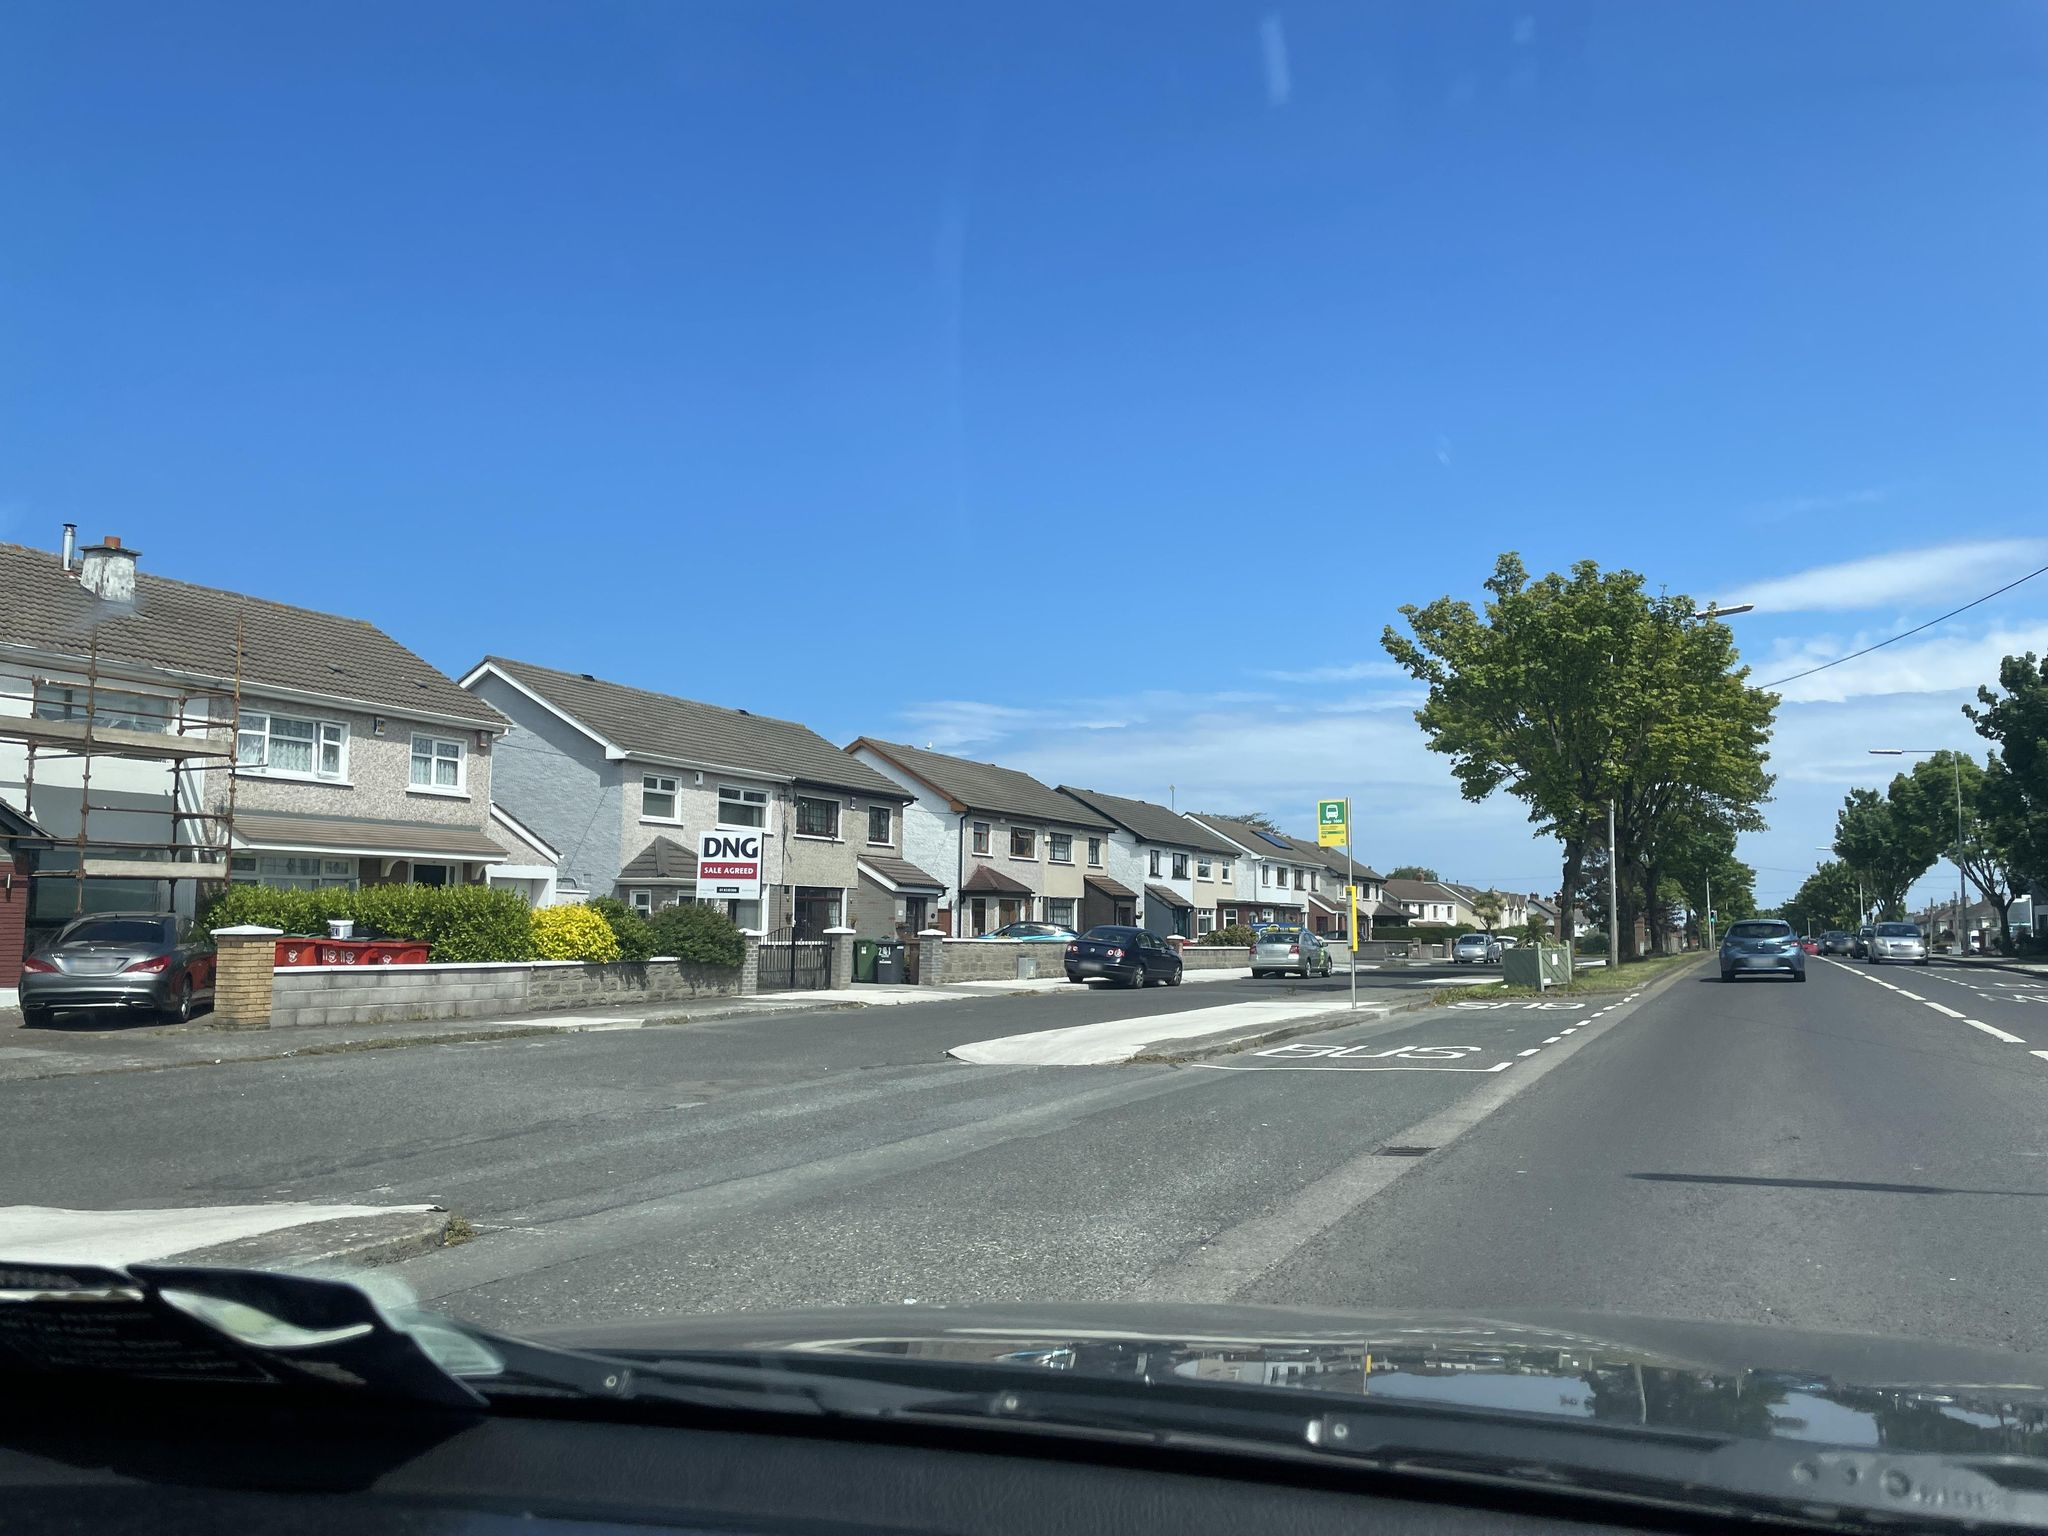property sign: (674, 795, 782, 920)
